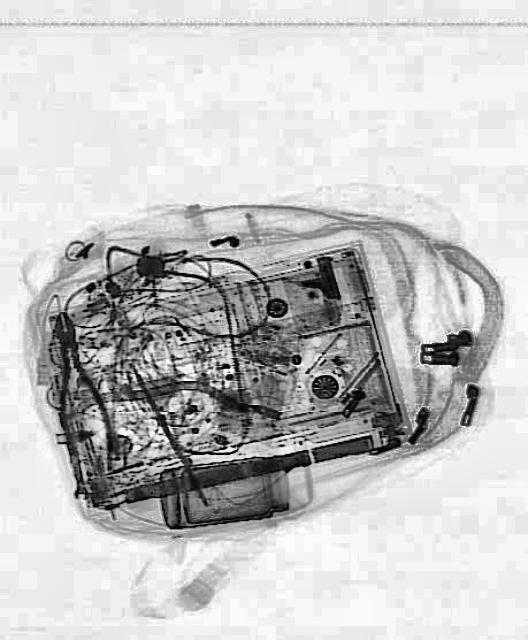Pliers: (38, 304, 120, 486)
Wrench: (62, 432, 88, 500)
